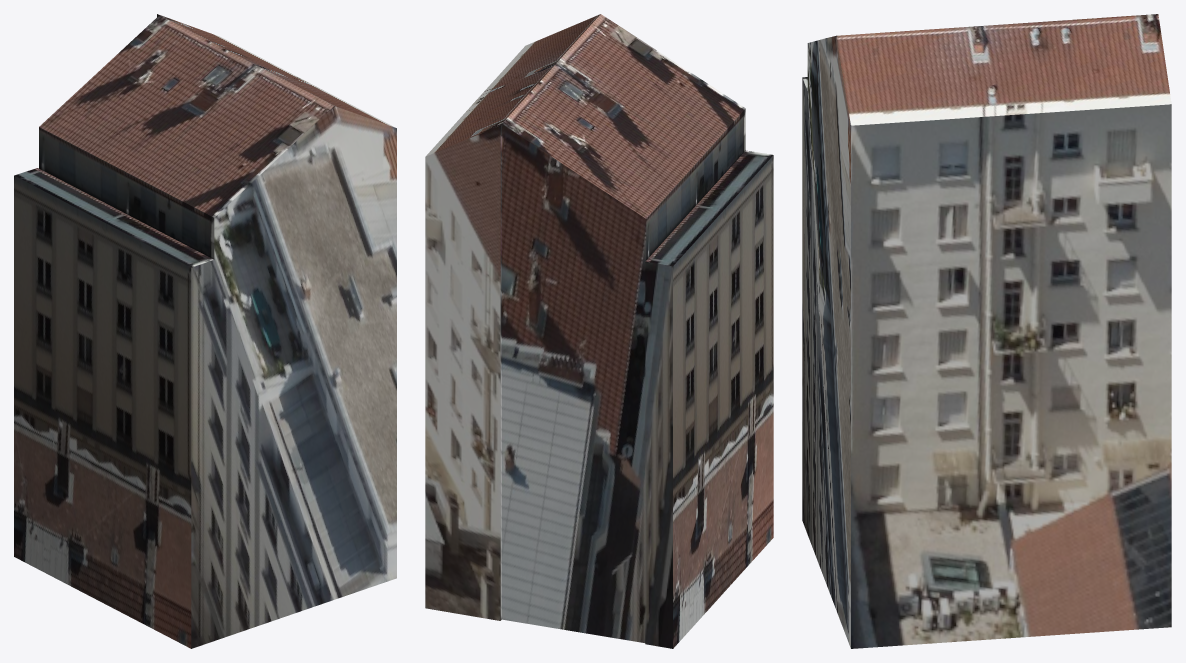
3 renders of one model, left to right at view 1: azimuth 30°, elevation 25°; view 2: azimuth 150°, elevation 25°; view 3: azimuth 270°, elevation 25°, orthographic. The views are drawn at different scales.
Visible parts, largest first — view 1: Z_UP; view 2: Z_UP; view 3: Z_UP.
Boxes of the visible parts, x1,y1,x2,y2 form: Z_UP: [14, 14, 396, 648]; Z_UP: [425, 14, 773, 648]; Z_UP: [802, 14, 1171, 648].
Bounding box in the file's own units: 16.79 × 29.92 × 17.45.
Materials: 2 (1 with a texture image).
